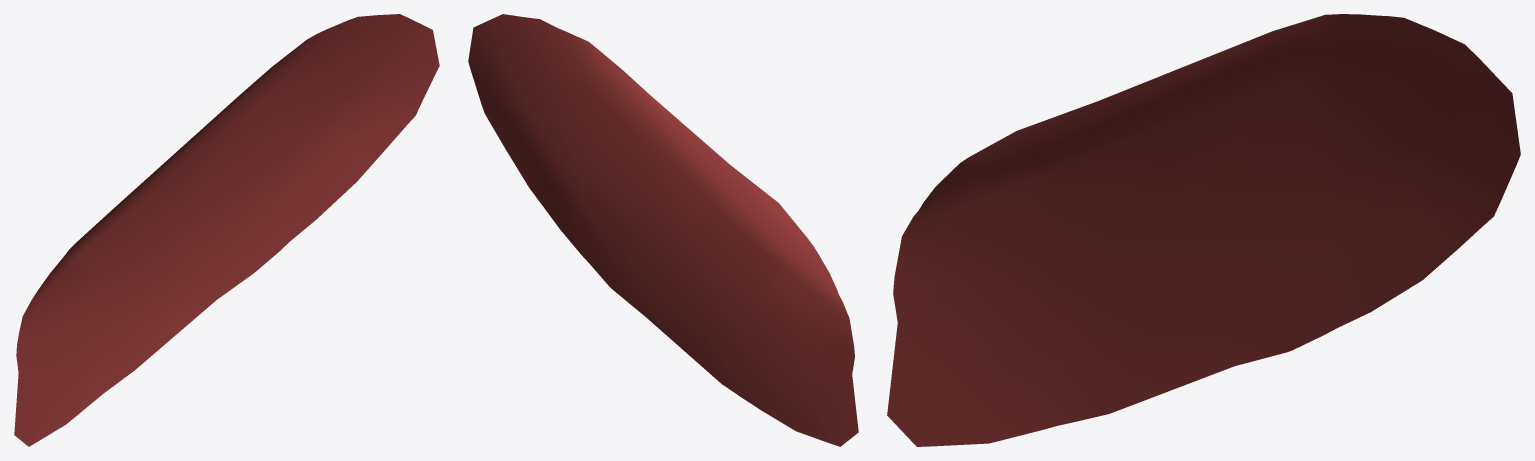
Rendered from levatores-longi-costarum-e9r.glb.
3 renders of one model, left to right at view 1: azimuth 30°, elevation 25°; view 2: azimuth 150°, elevation 25°; view 3: azimuth 330°, elevation 25°, orthographic. The views are drawn at different scales.
Parts seen in each view (by area): view 1: Levatores longi costarum.e9r; view 2: Levatores longi costarum.e9r; view 3: Levatores longi costarum.e9r.
Boxes of the visible parts, left/top/right/bottom form: Levatores longi costarum.e9r: left=14, top=14, right=439, bottom=446; Levatores longi costarum.e9r: left=468, top=14, right=858, bottom=446; Levatores longi costarum.e9r: left=887, top=14, right=1520, bottom=446.
Bounding box in the file's own units: 0.0189 × 0.0156 × 0.00179.
